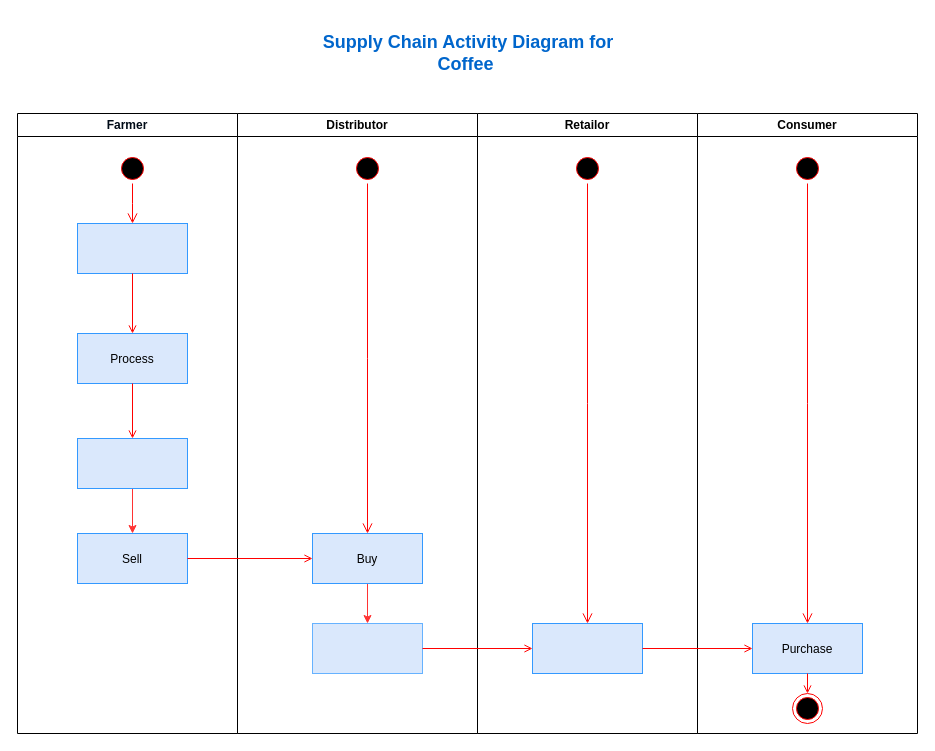
This 935x751 diagram has some shape labels left out. Each missing label, with the centre of its shape:
"Harvest" belongs at [132,248].
"Pack" belongs at [132,463].
"Receive" belongs at [587,648].
"Ship" belongs at [367,648].
